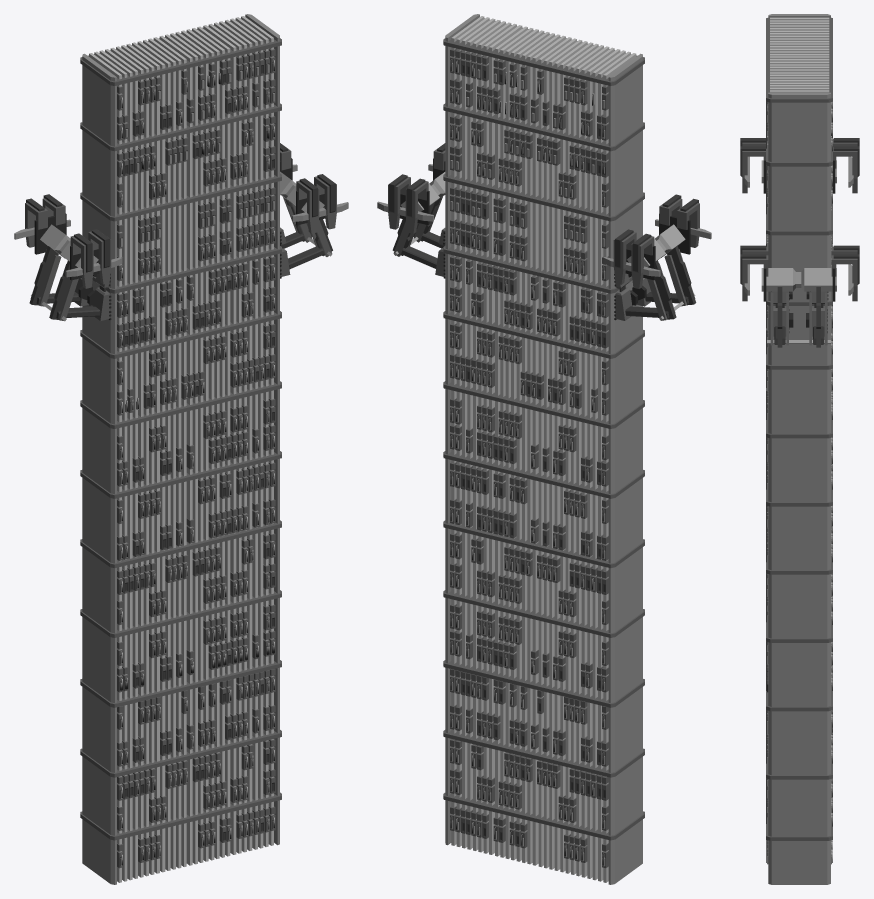
File: giant_server_A.FBX
3 views of the same model, side by side, from view 1: azimuth 30°, elevation 25°; view 2: azimuth 150°, elevation 25°; view 3: azimuth 270°, elevation 25° (orthographic). The views are drawn at different scales.
Visible parts, largest first — view 1: giantServer_A, giantServer_A_HDD, giantServer_A_glow; view 2: giantServer_A, giantServer_A_HDD, giantServer_A_glow; view 3: giantServer_A, giantServer_A_glow, giantServer_A_HDD.
Part boxes in pixels (left/top/right/bottom): giantServer_A: left=14, top=14, right=348, bottom=884; giantServer_A_HDD: left=117, top=48, right=275, bottom=868; giantServer_A_glow: left=120, top=59, right=274, bottom=865; giantServer_A: left=377, top=14, right=711, bottom=884; giantServer_A_HDD: left=450, top=48, right=608, bottom=868; giantServer_A_glow: left=450, top=59, right=604, bottom=865; giantServer_A: left=740, top=14, right=859, bottom=884; giantServer_A_glow: left=766, top=102, right=832, bottom=862; giantServer_A_HDD: left=767, top=104, right=831, bottom=864.
Bounding box in the file's own units: 484 × 1322 × 181.
